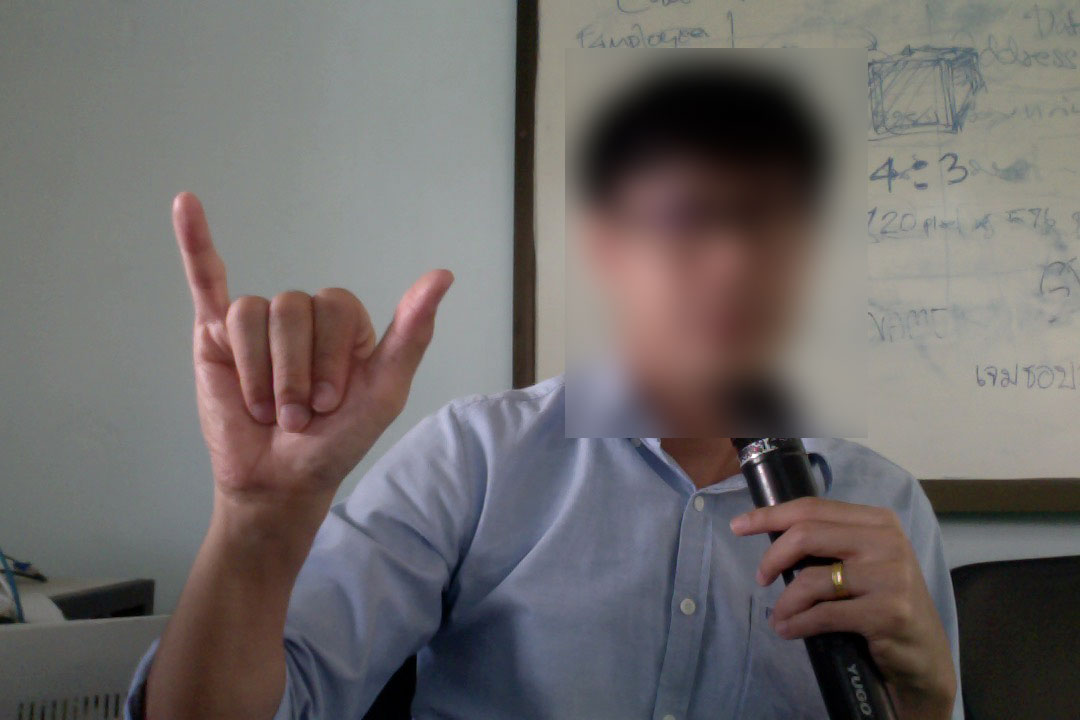yor: (161, 181, 461, 523)
